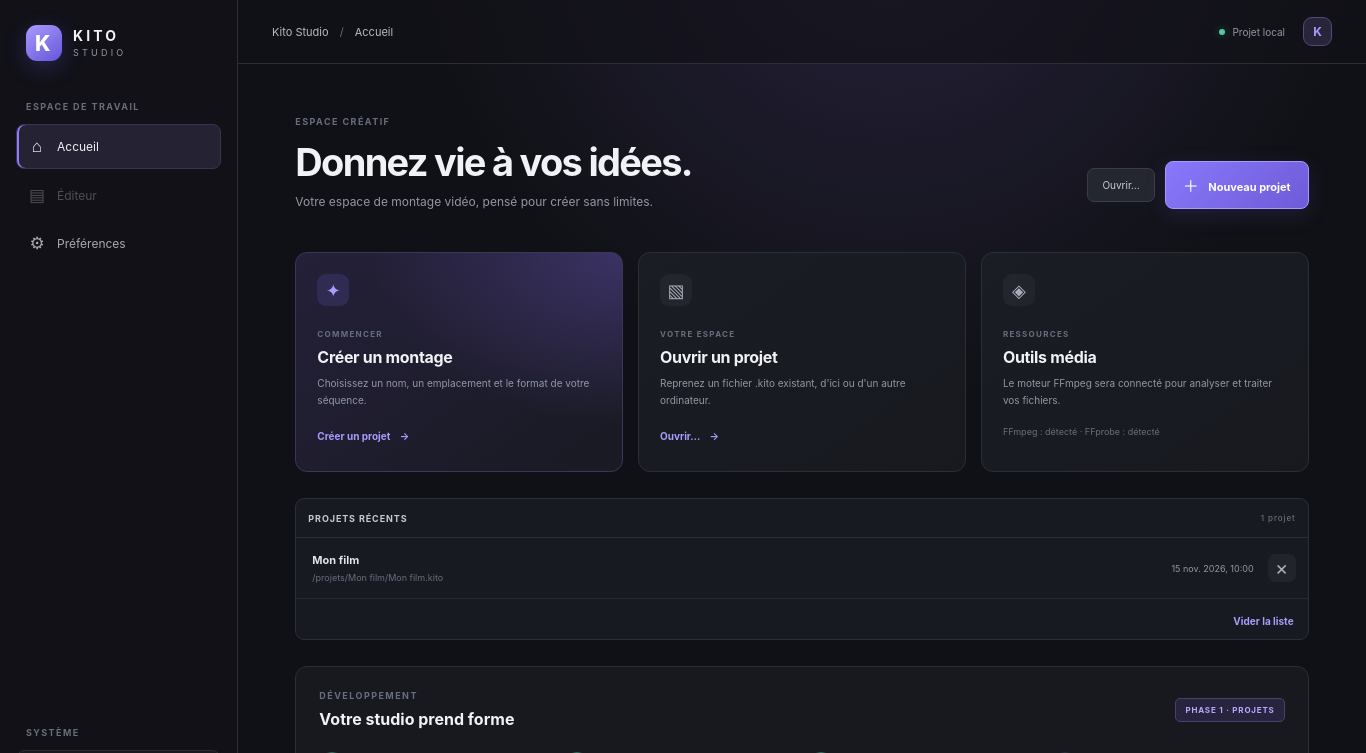
Test: enregistrement › affiche l'état de la sauvegarde automatique (réussie puis échouée)
The image size is (1366, 753).
Click the text "Mon film" at point(336, 560), box [312, 553, 359, 567]
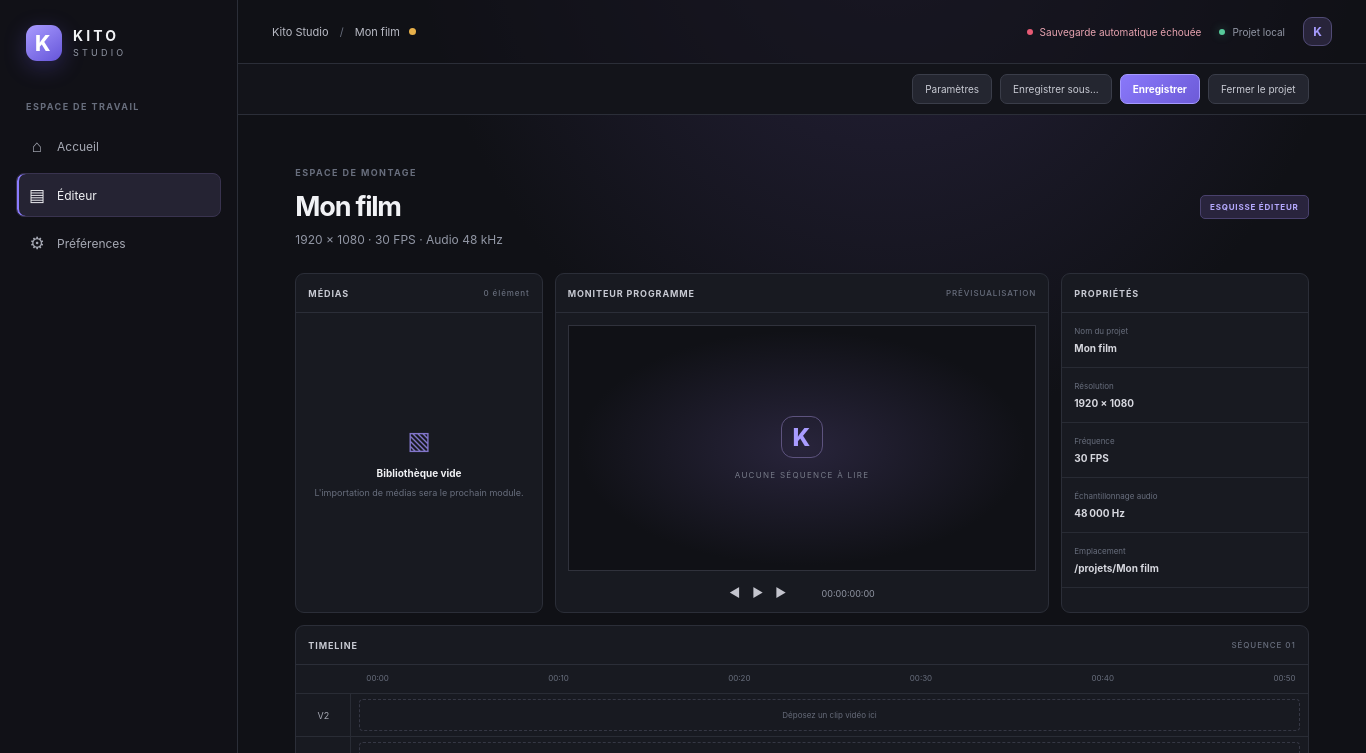
Now the heading "Mon film" is shown, box [295, 190, 401, 223]
Now the text "Sauvegarde automatique échouée" is shown, box [1027, 26, 1201, 38]
